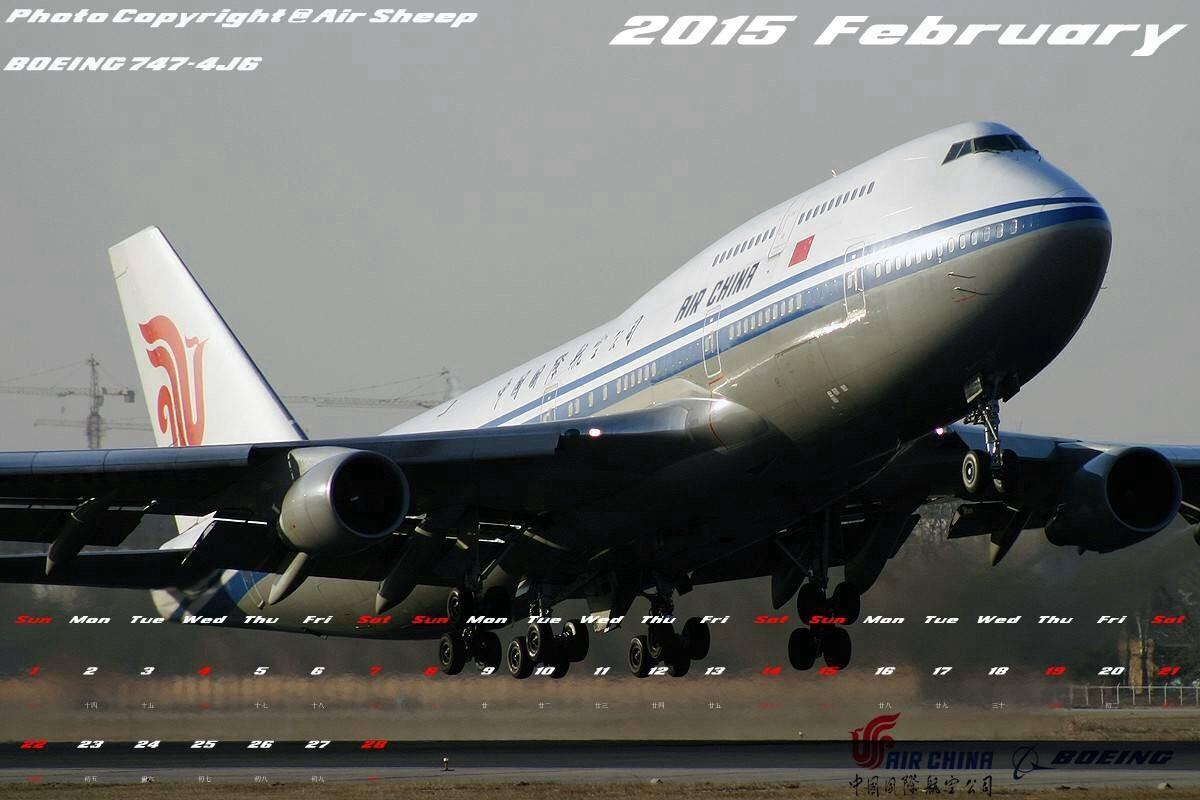airplane: (3, 112, 1200, 679)
